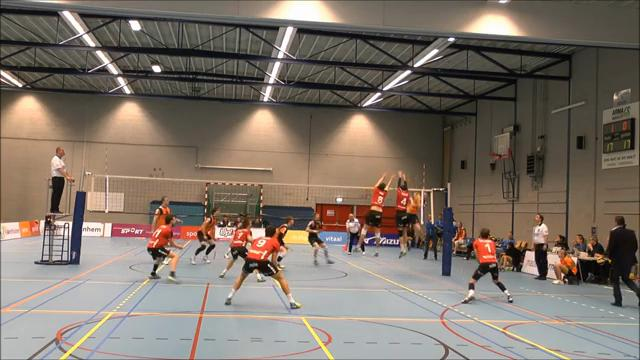attacco: (407, 178, 433, 251)
muro: (356, 170, 393, 257), (391, 168, 410, 260)
